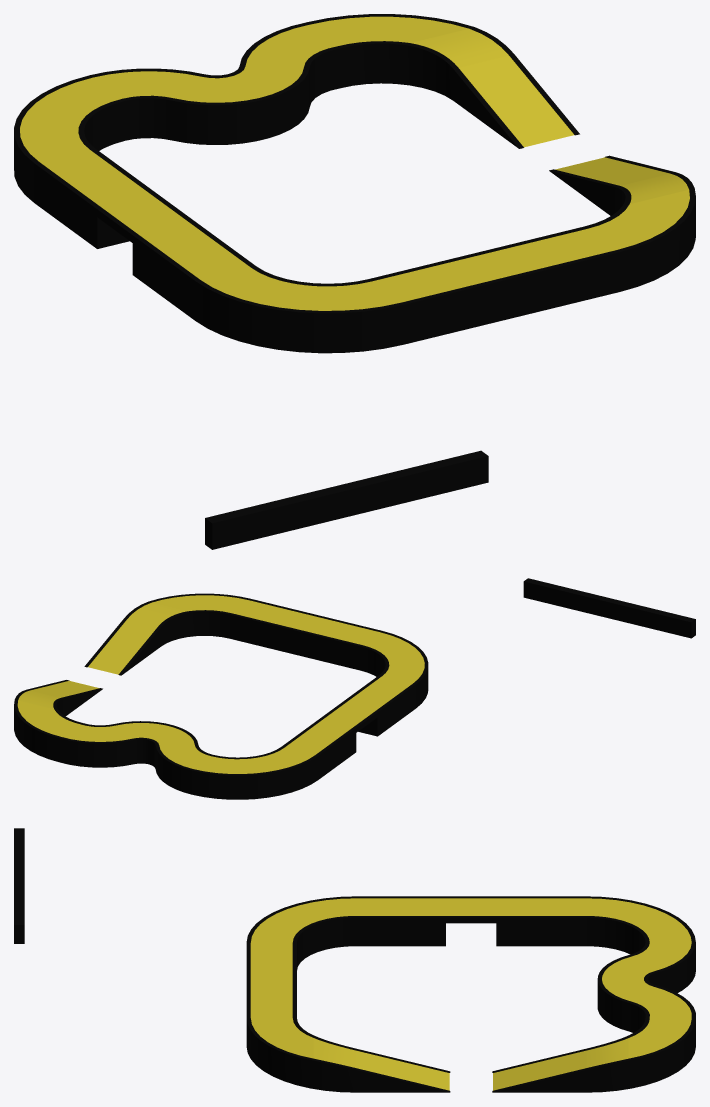
File: BridgeWallCollision_2.dae
3 renders of one model, top to bottom at view 1: azimuth 30°, elevation 25°; view 2: azimuth 150°, elevation 25°; view 3: azimuth 270°, elevation 25°, orthographic. The views are drawn at different scales.
Parts seen in each view (by area): view 1: BridgeWallCollision; view 2: BridgeWallCollision; view 3: BridgeWallCollision.
Boxes of the visible parts, <box> form: BridgeWallCollision: <box>14,14,695,549</box>; BridgeWallCollision: <box>14,578,695,799</box>; BridgeWallCollision: <box>14,828,695,1092</box>.
Size of the model in its own units: 27.64 by 32.48 by 1.5.
